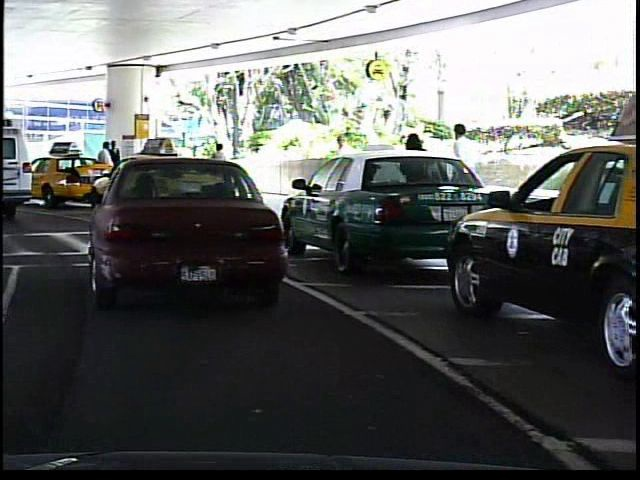person: (443, 116, 490, 230), (397, 124, 434, 231), (326, 127, 354, 205), (207, 138, 231, 190), (95, 141, 113, 194), (108, 137, 123, 193)
